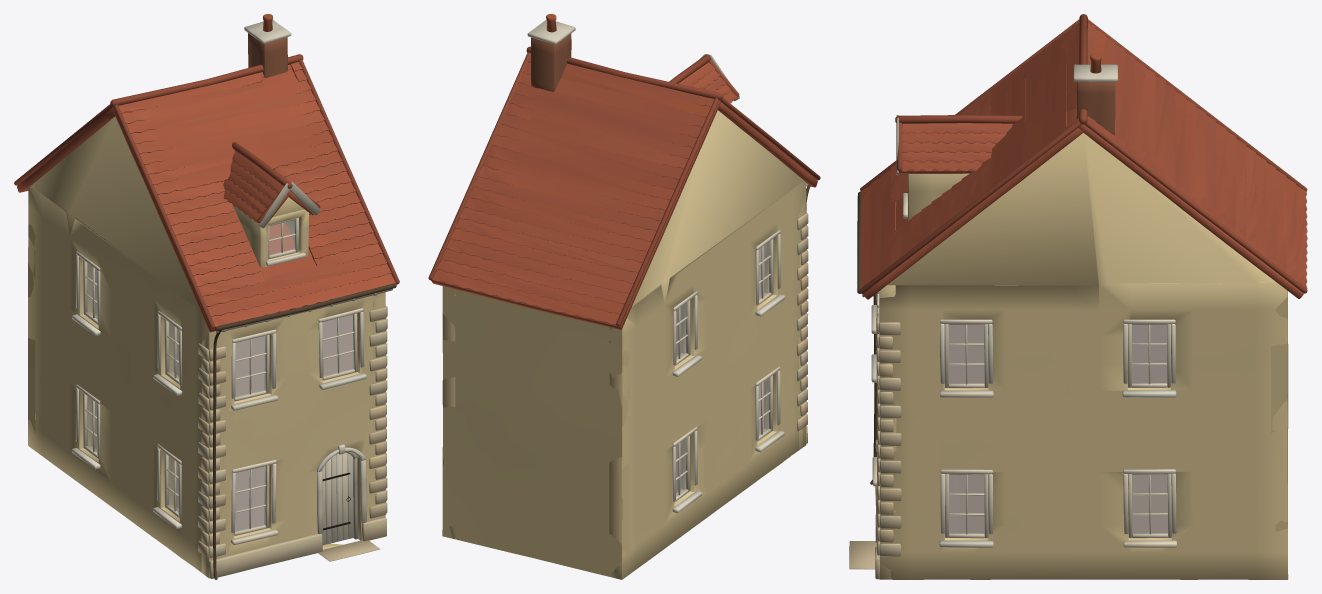
The model's file is GateStreet_BehindInner1.glb.
3 renders of one model, left to right at view 1: azimuth 30°, elevation 25°; view 2: azimuth 150°, elevation 25°; view 3: azimuth 270°, elevation 25°, orthographic. The views are drawn at different scales.
Parts seen in each view (by area): view 1: Sammel Putz, Sammel Stein, Sammel Lack, Glas, Sammel Putz innen, Sammel Metall, Sammel Ziegel; view 2: Sammel Putz, Sammel Stein, Sammel Lack, Sammel Ziegel, Glas, Sammel Putz innen; view 3: Sammel Putz, Sammel Stein, Sammel Putz innen, Glas, Sammel Lack, Sammel Ziegel, Sammel Metall.
Part boxes in pixels (bbox=[...]): Sammel Putz: bbox=[28, 14, 385, 578]; Sammel Stein: bbox=[14, 54, 399, 578]; Sammel Lack: bbox=[83, 182, 392, 545]; Glas: bbox=[87, 220, 353, 531]; Sammel Putz innen: bbox=[91, 267, 352, 531]; Sammel Metall: bbox=[213, 283, 396, 579]; Sammel Ziegel: bbox=[248, 33, 287, 78]; Sammel Putz: bbox=[442, 14, 806, 579]; Sammel Stein: bbox=[428, 46, 820, 443]; Sammel Lack: bbox=[674, 54, 808, 502]; Sammel Ziegel: bbox=[531, 33, 571, 91]; Glas: bbox=[675, 242, 768, 495]; Sammel Putz innen: bbox=[675, 246, 764, 492]; Sammel Putz: bbox=[871, 54, 1288, 579]; Sammel Stein: bbox=[849, 14, 1307, 579]; Sammel Putz innen: bbox=[948, 324, 1167, 533]; Glas: bbox=[949, 325, 1167, 533]; Sammel Lack: bbox=[862, 115, 1171, 538]; Sammel Ziegel: bbox=[1076, 81, 1115, 135]; Sammel Metall: bbox=[857, 191, 877, 484].
Size of the model in its own units: 4.88 by 11.08 by 8.99.
